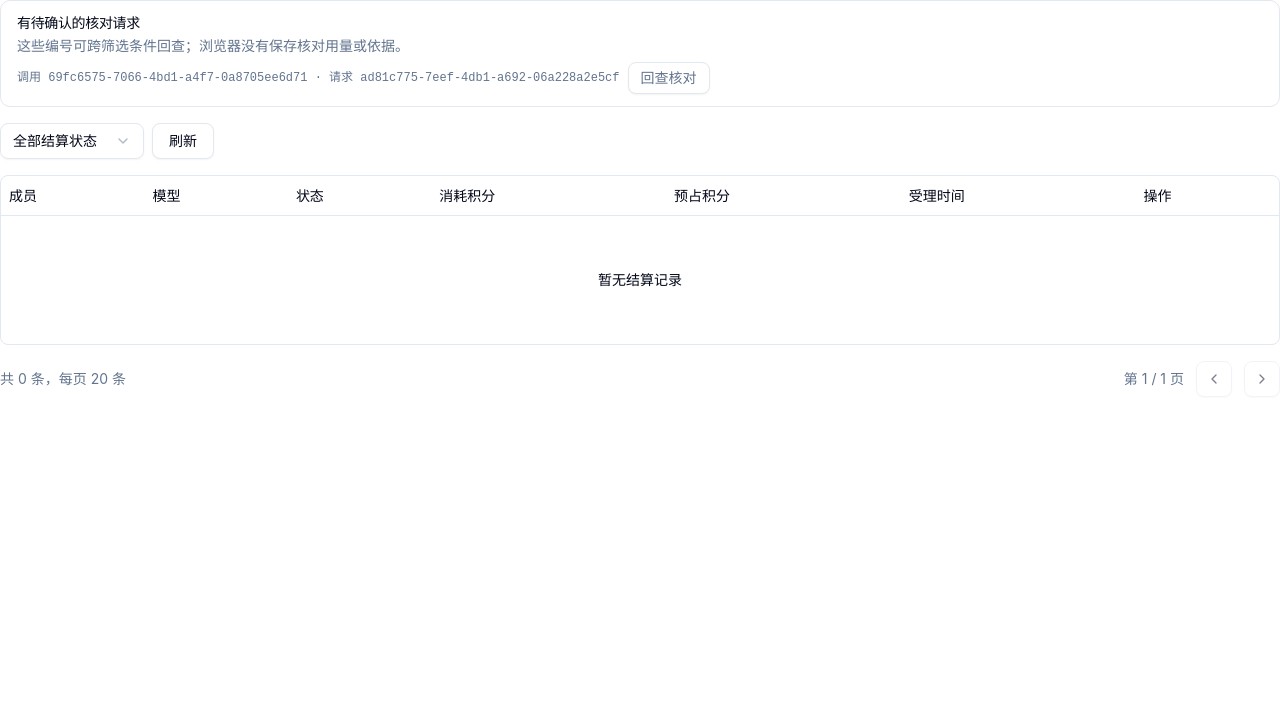
Scenario: ignores a late completed receipt after the context denies access
This screenshot has width=1280, height=720.
Click the button "回查核对".
click(668, 78)  # box [628,62,710,94]
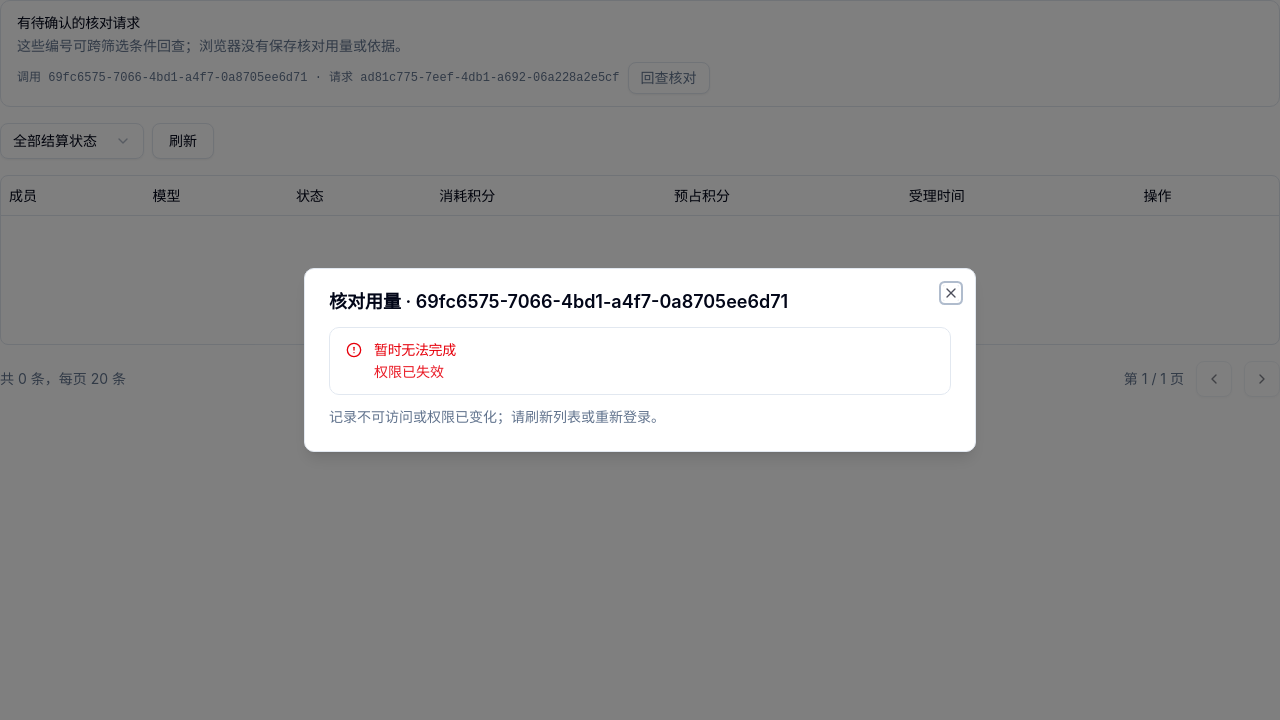
Now the text "记录不可访问或权限已变化；请刷新列表或重新登录。" is shown, box [329,408,665,425]
Now the dialog "核对用量" is shown, box [304,268,976,452]
